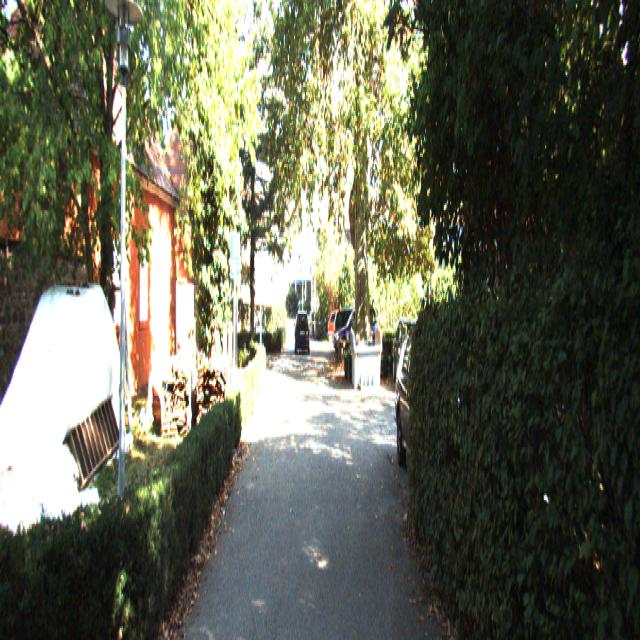Car: (394, 318, 487, 515), (393, 315, 432, 398), (335, 304, 380, 358), (295, 310, 310, 354)
